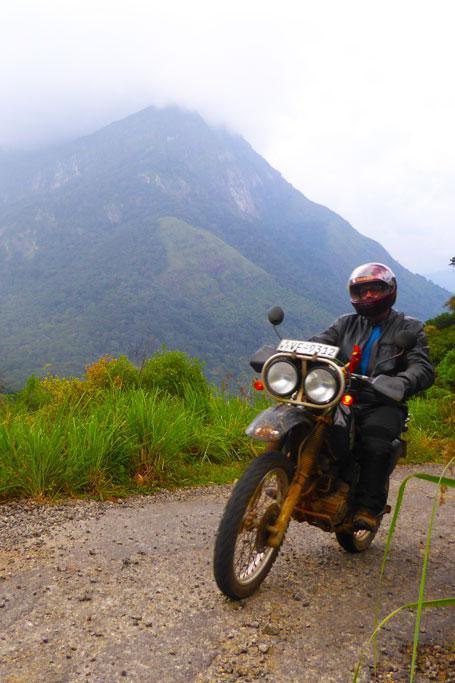motorbike: (213, 305, 416, 599)
